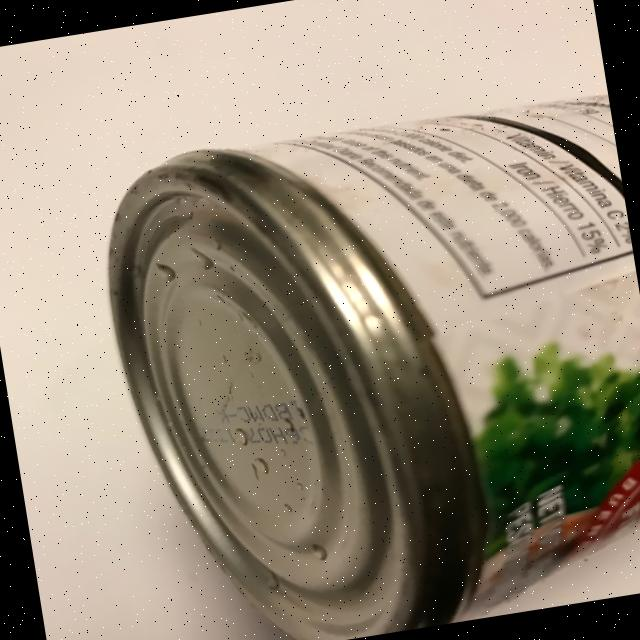metal: (86, 84, 640, 640)
